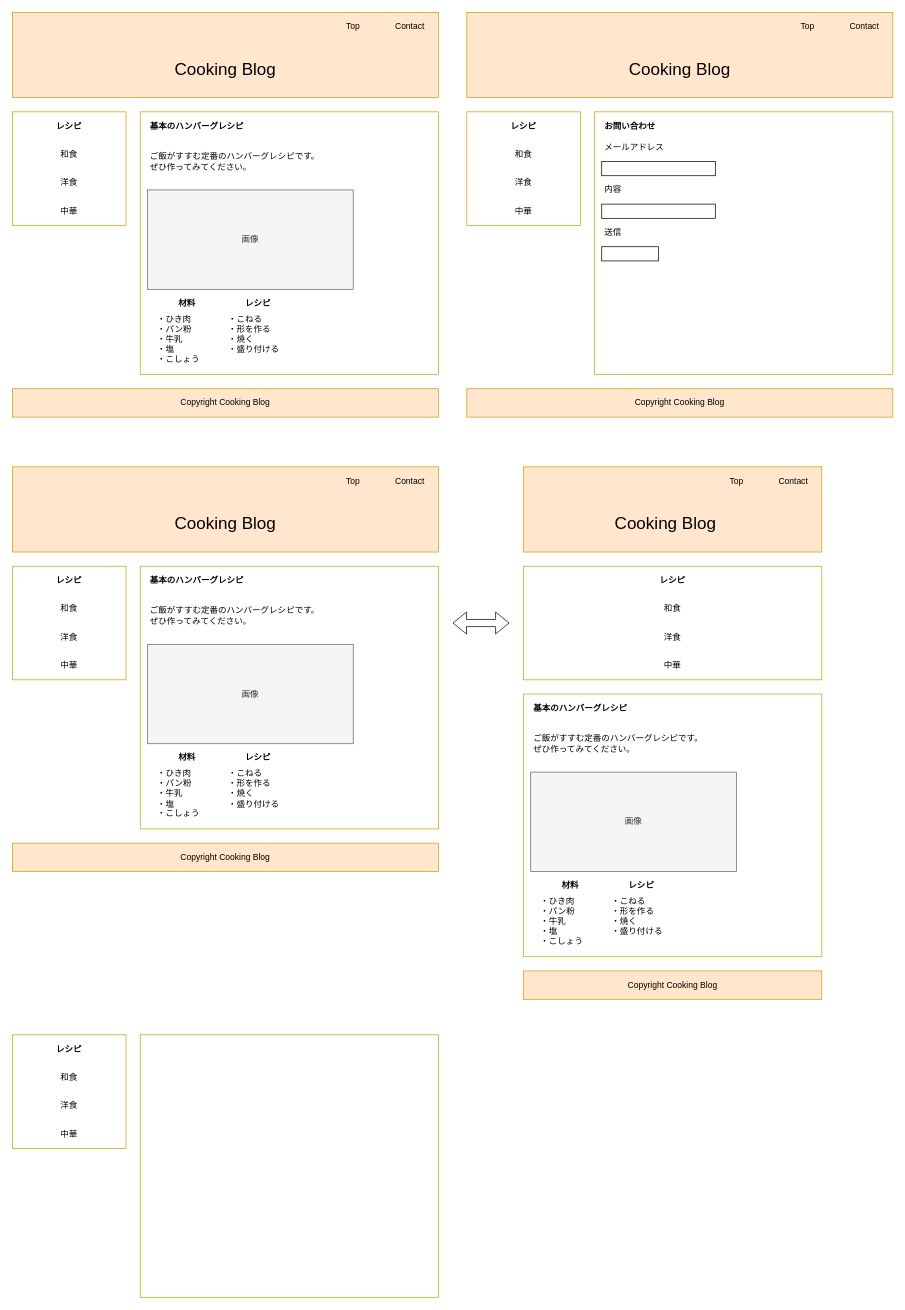
This 905x1310 diagram has some shape labels left out. The centre of each missing label's shape, as x and y in pixels:
Submit: the point at 630,253
レシピ記事 or お問い合わせ: the point at 289,1166
